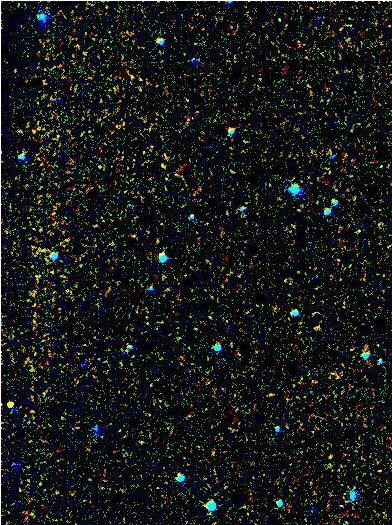star: (0, 389, 26, 419)
